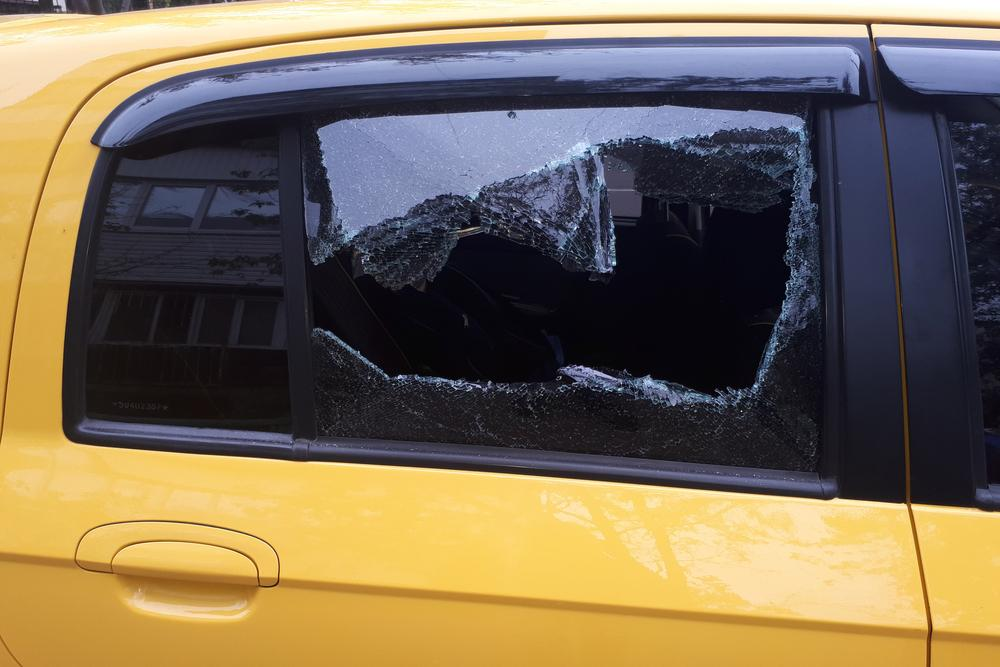glass shatter: (303, 95, 823, 473)
